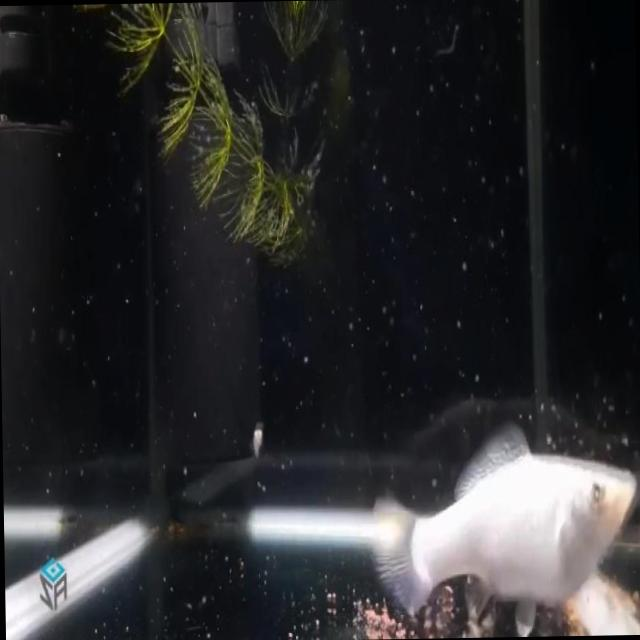PlatyFish: (361, 398, 640, 639)
